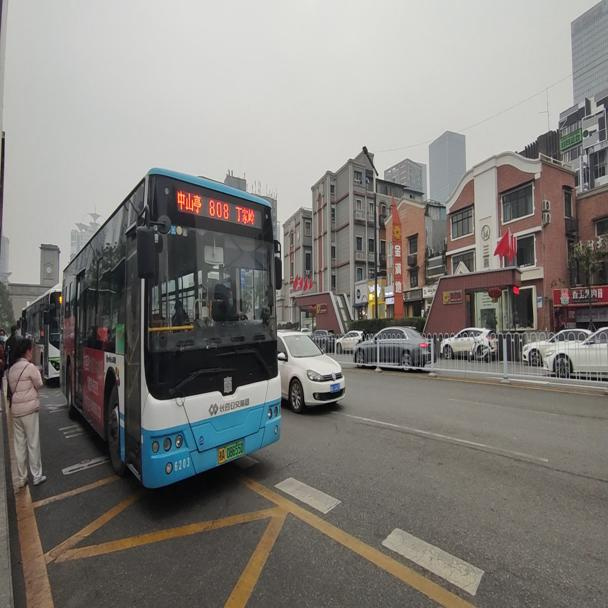bus: (59, 166, 281, 490), (19, 283, 62, 380)
screen: (205, 194, 232, 220)
